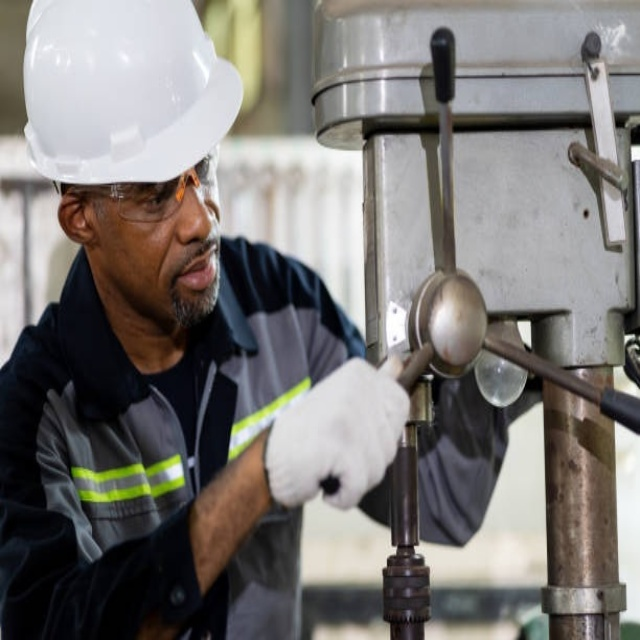Gafas: (67, 151, 219, 226)
Guantes: (262, 352, 414, 512)
Sin_mascara: (161, 232, 221, 309)
